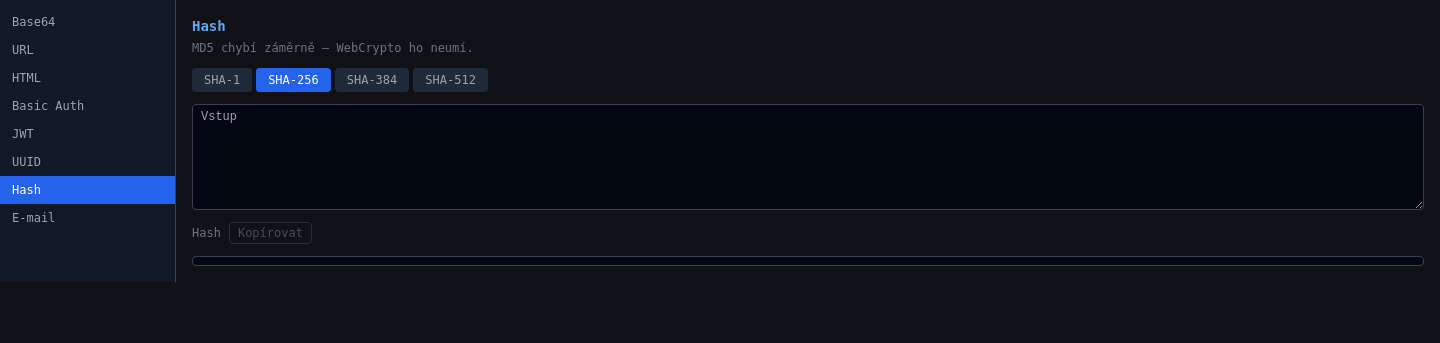
it: ToolsView › Hash nástroj počítá SHA-256 a přepíná algoritmus
The width and height of the screenshot is (1440, 343).
Expected: the heading "Hash" is shown, [192,18,226,34]
Type "abc" into the text box with placeholder "Vstup" at (808, 157), box [192,104,1424,210]
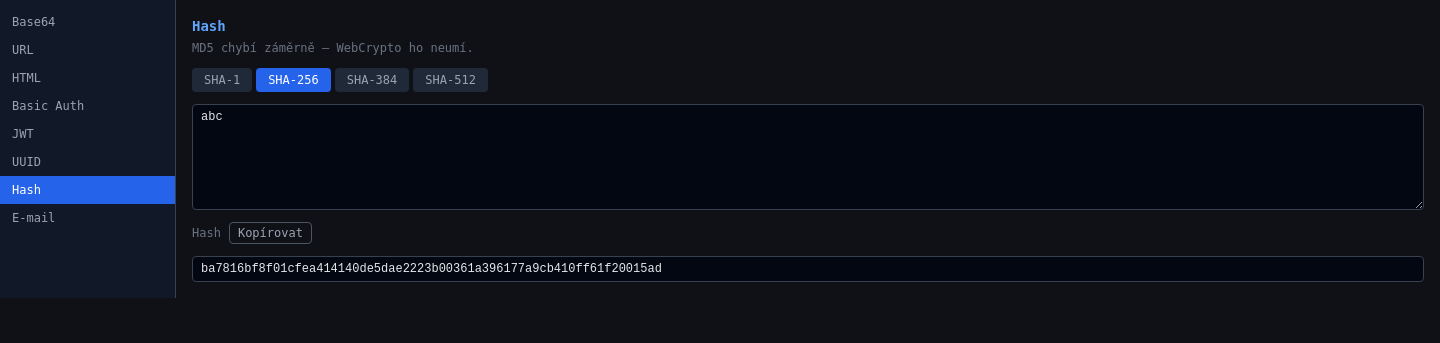
Expected: the text "ba7816bf8f01cfea414140de5dae2223b00361a396177a9cb410ff61f20015ad" is shown, [192,256,1424,282]
Click the button "SHA-1" at (222, 80), box [192,68,252,92]
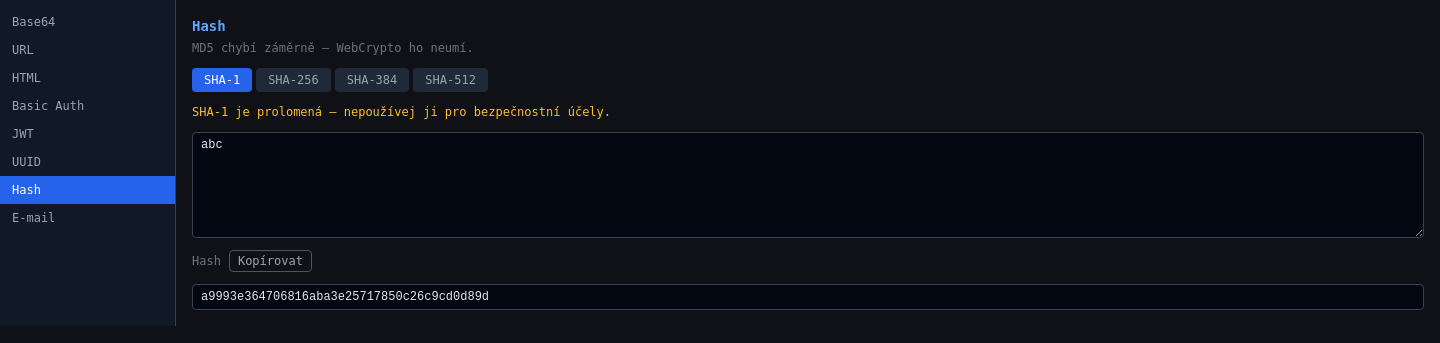
Expected: the text "a9993e364706816aba3e25717850c26c9cd0d89d" is shown, [192,284,1424,310]
